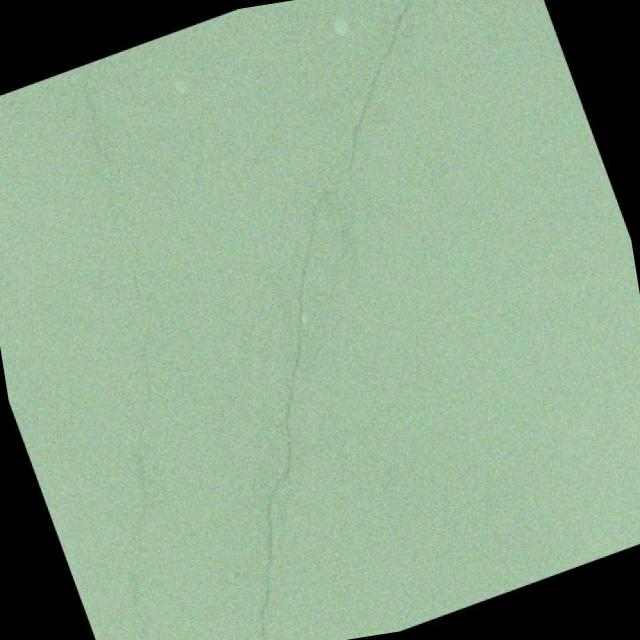crack: (74, 115, 511, 640), (218, 0, 532, 322), (41, 400, 242, 640), (80, 211, 195, 426), (50, 57, 162, 276)
